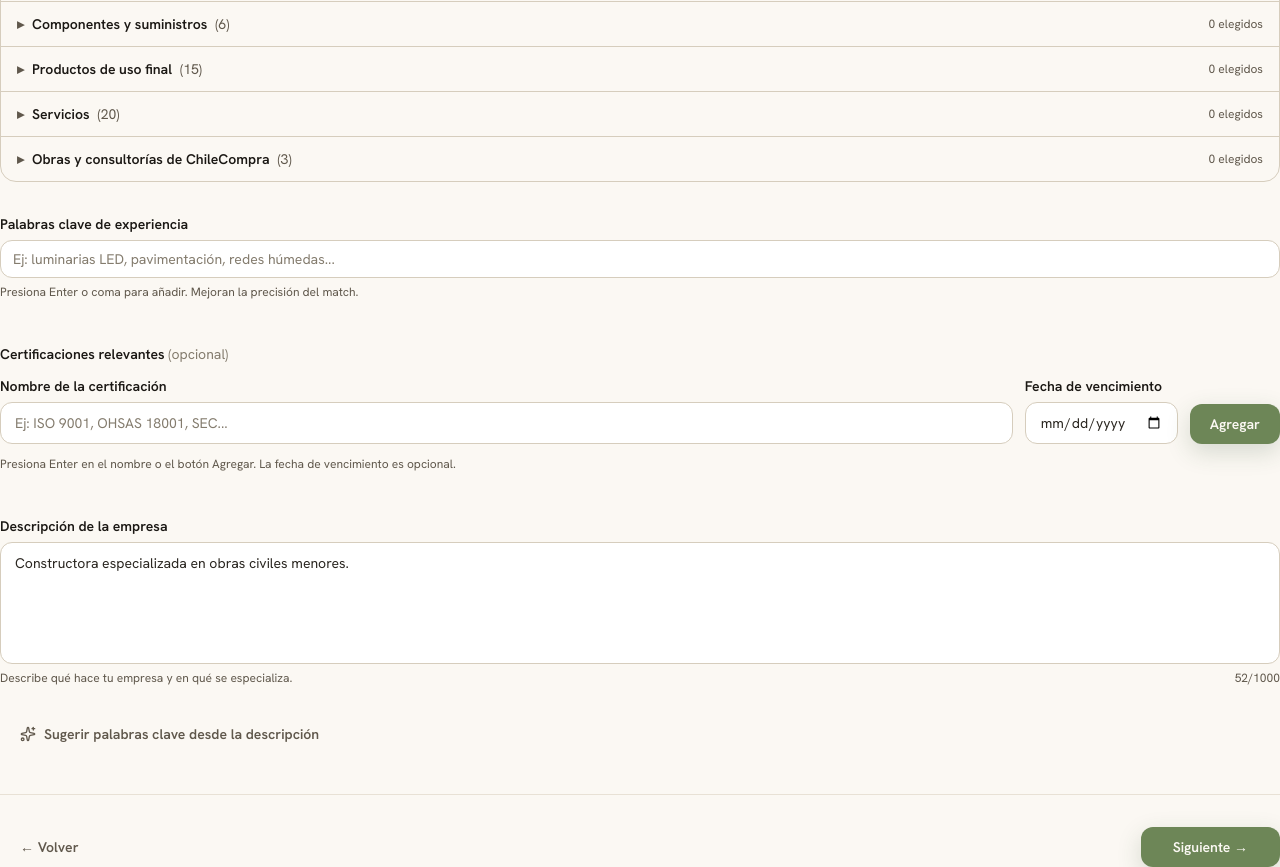
Test: Step3Specialization (sugerir desde la descripción) › no vuelve a mostrar una sugerencia que el usuario descartó antes
This screenshot has width=1280, height=867.
(page scrolled)
Click the button "Sugerir palabras clave desde la descripción". click: [170, 734]
box: [0,714,339,754]
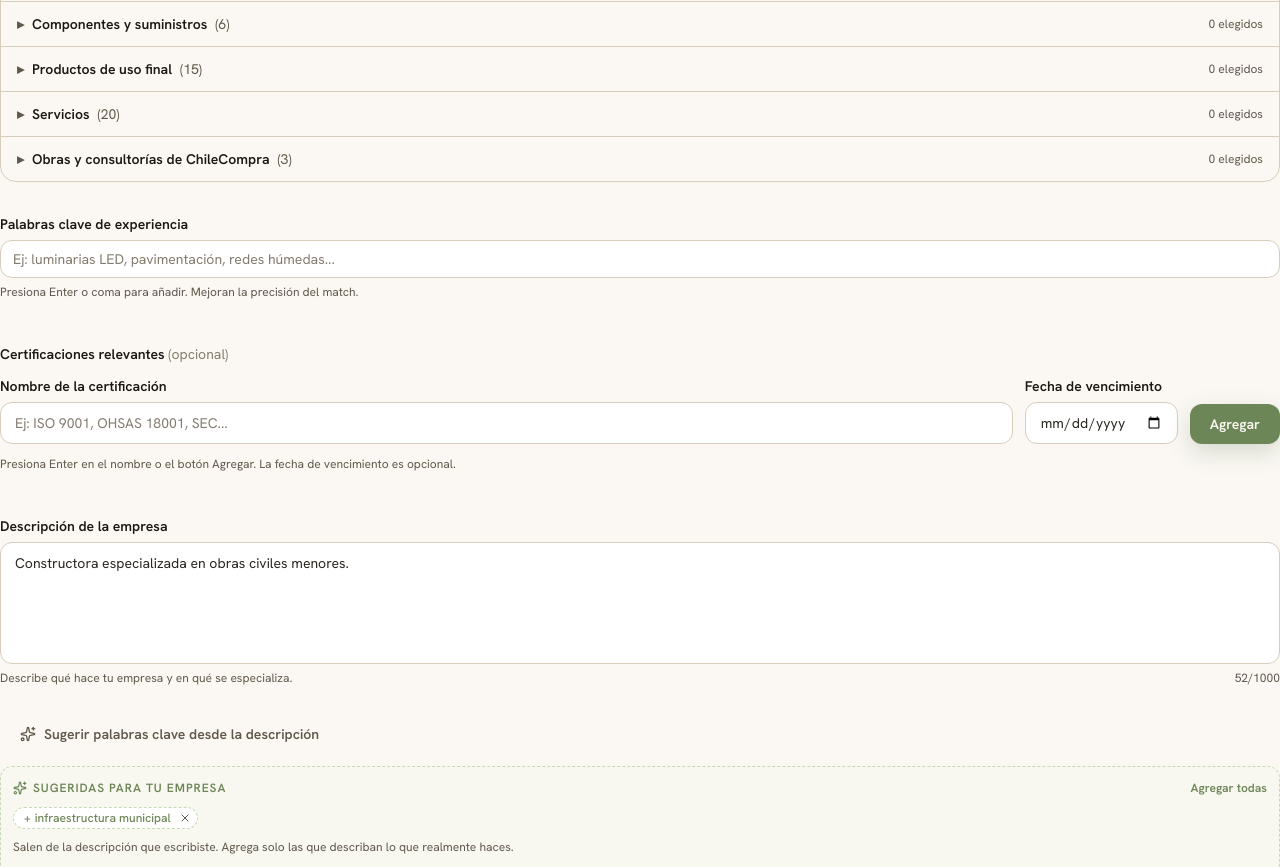
Expected: the button with aria-label "Agregar infraestructura municipal" is shown, [14,808,177,828]
